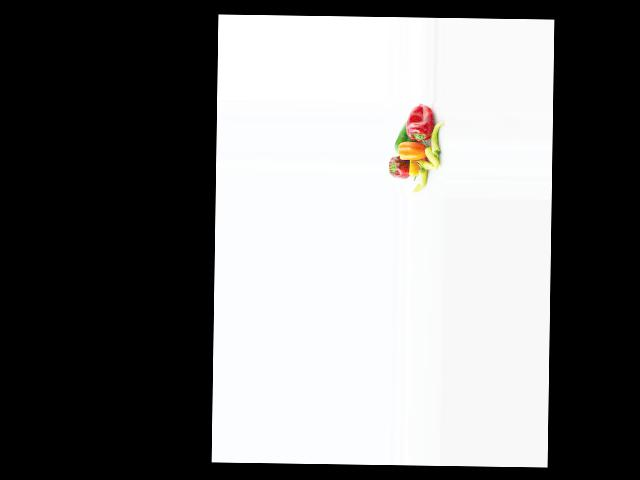bell_pepper: (431, 119, 443, 160)
